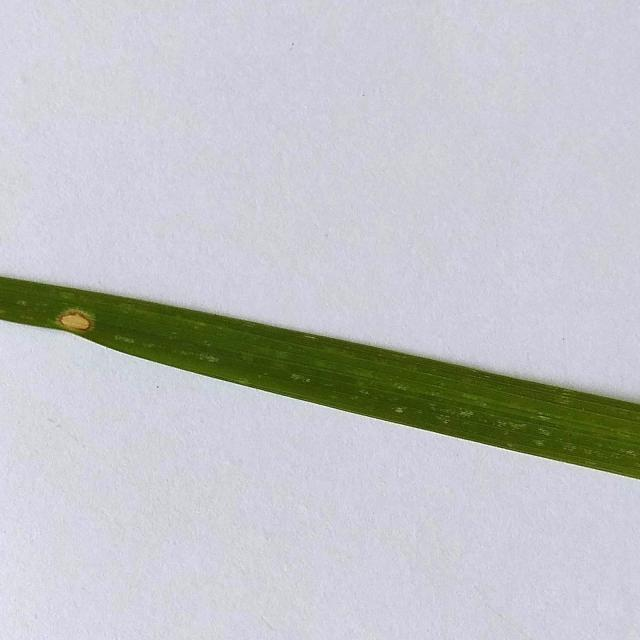Leaf blast: (0, 272, 640, 478), (48, 301, 102, 333)
